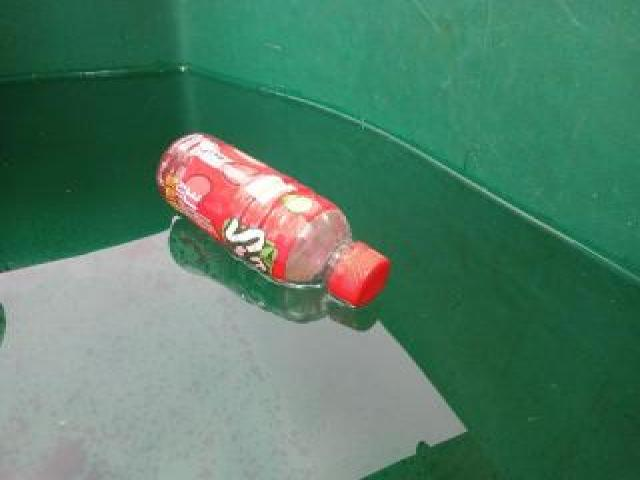Bottle: (150, 126, 400, 315)
